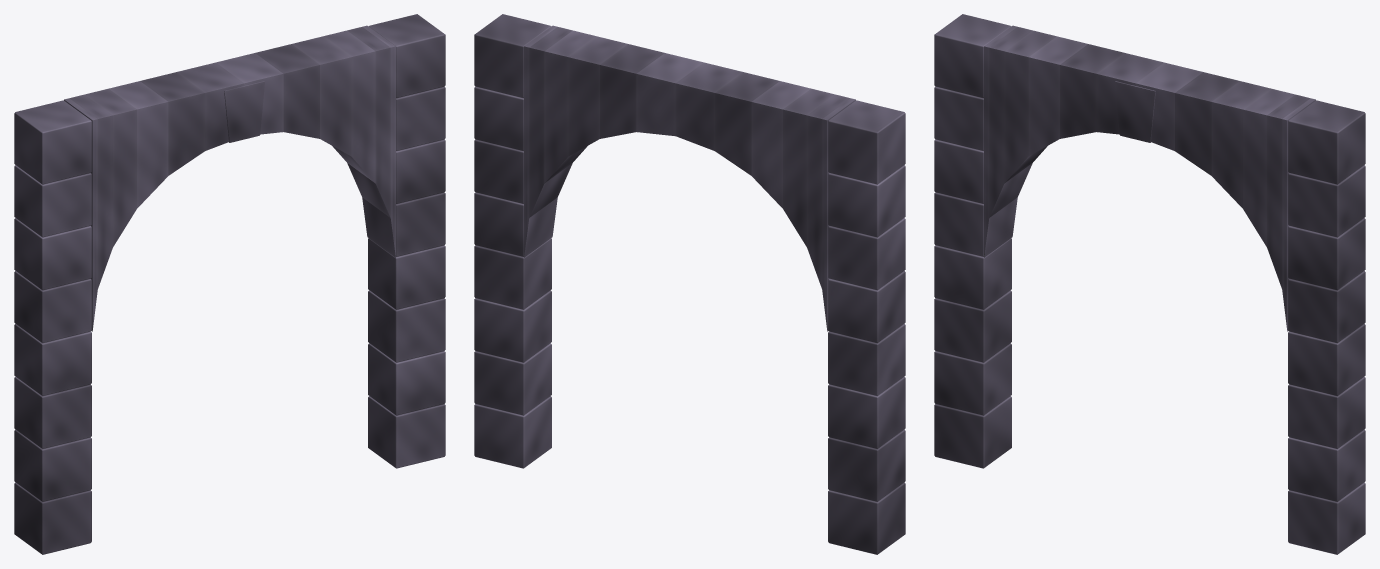
The model's file is Furn_Dun_WallOpening.fbx.
The picture shows the model from 3 angles, left to right: view 1: azimuth 30°, elevation 25°; view 2: azimuth 150°, elevation 25°; view 3: azimuth 330°, elevation 25°; orthographic projection.
Visible parts, largest first — view 1: Furn_Dun_WallOpening; view 2: Furn_Dun_WallOpening; view 3: Furn_Dun_WallOpening.
Part boxes in pixels (bbox=[...]): Furn_Dun_WallOpening: bbox=[14, 14, 445, 554]; Furn_Dun_WallOpening: bbox=[474, 14, 905, 554]; Furn_Dun_WallOpening: bbox=[934, 14, 1365, 554].
Size of the model in its own units: 3.2 by 3.2 by 0.4.
1 material, 1 textured.
